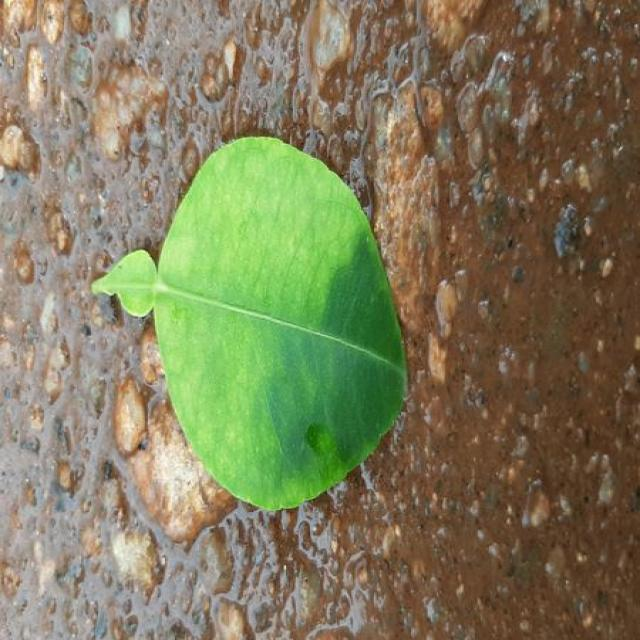lemon: (92, 138, 407, 510)
